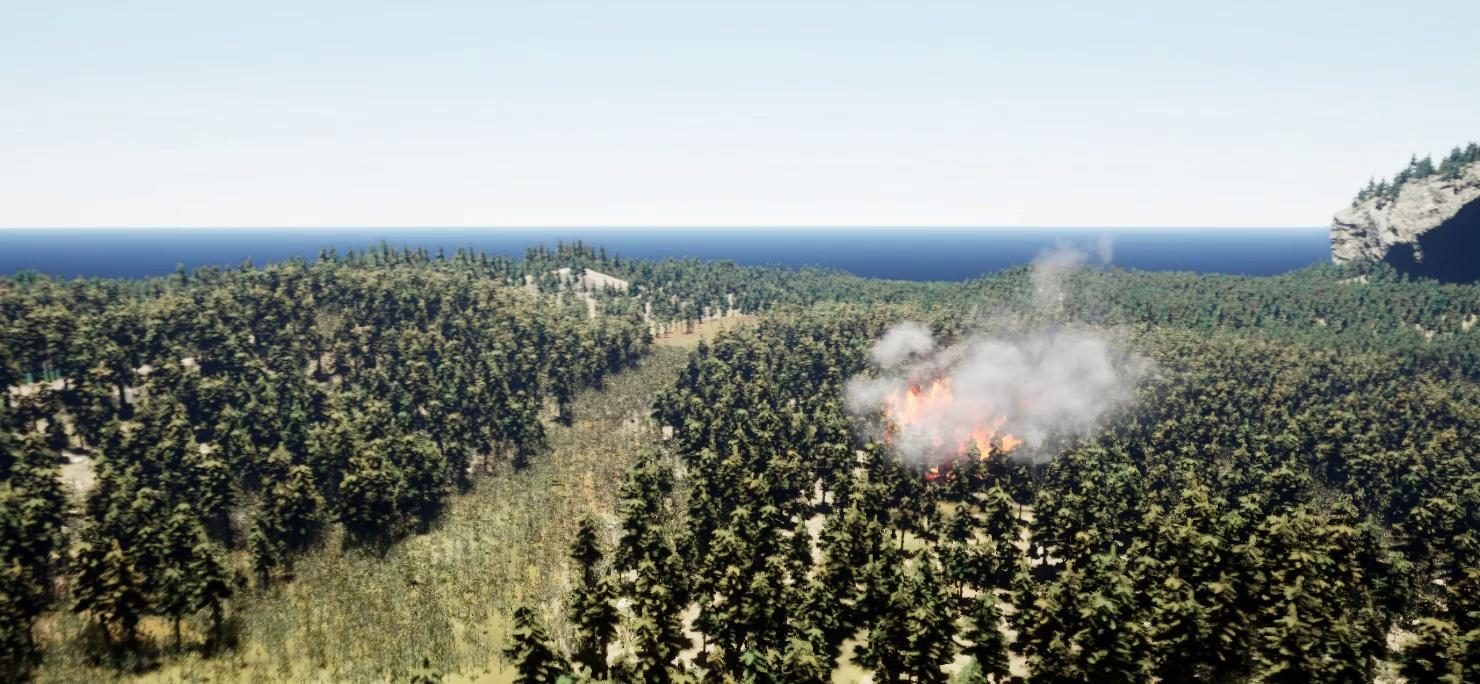fire: (876, 373, 1022, 475)
smoke: (845, 229, 1150, 470)
